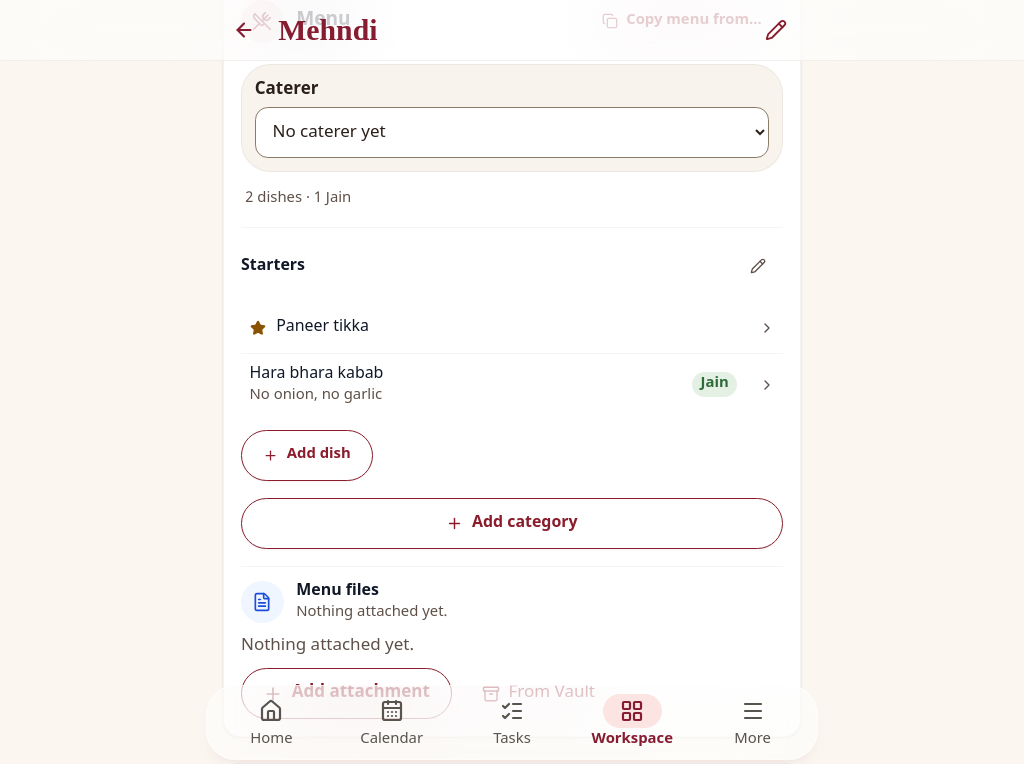
Test: Menu › a dish: attachments and tasks (Add task comes back to the menu); copy a menu with Undo
(page scrolled)
Click the button "Hara bhara kabab No onion, no garlic Jain". click: [316, 374]
box: [241, 354, 783, 415]
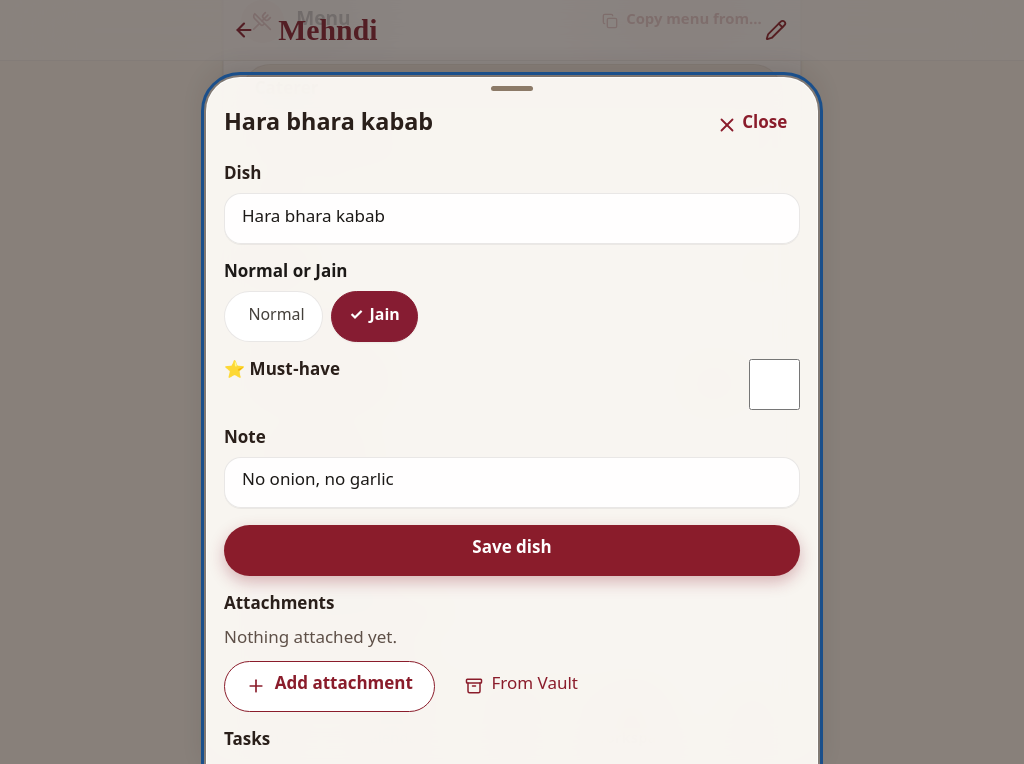
Expected: the field labelled "Dish" holds "Hara bhara kabab", [224, 193, 800, 244]
Click the button "Close". click: [752, 125]
box: [703, 100, 800, 151]
(page scrolled)
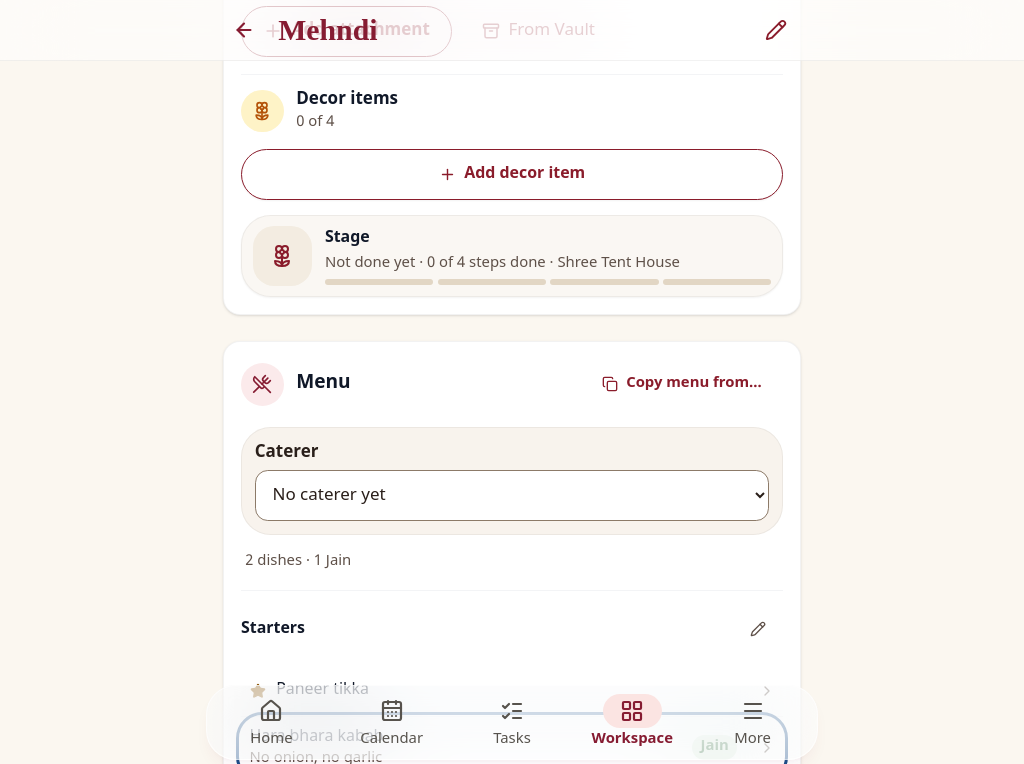
Click the button "Copy menu from…". click: [682, 384]
box: [580, 359, 783, 410]
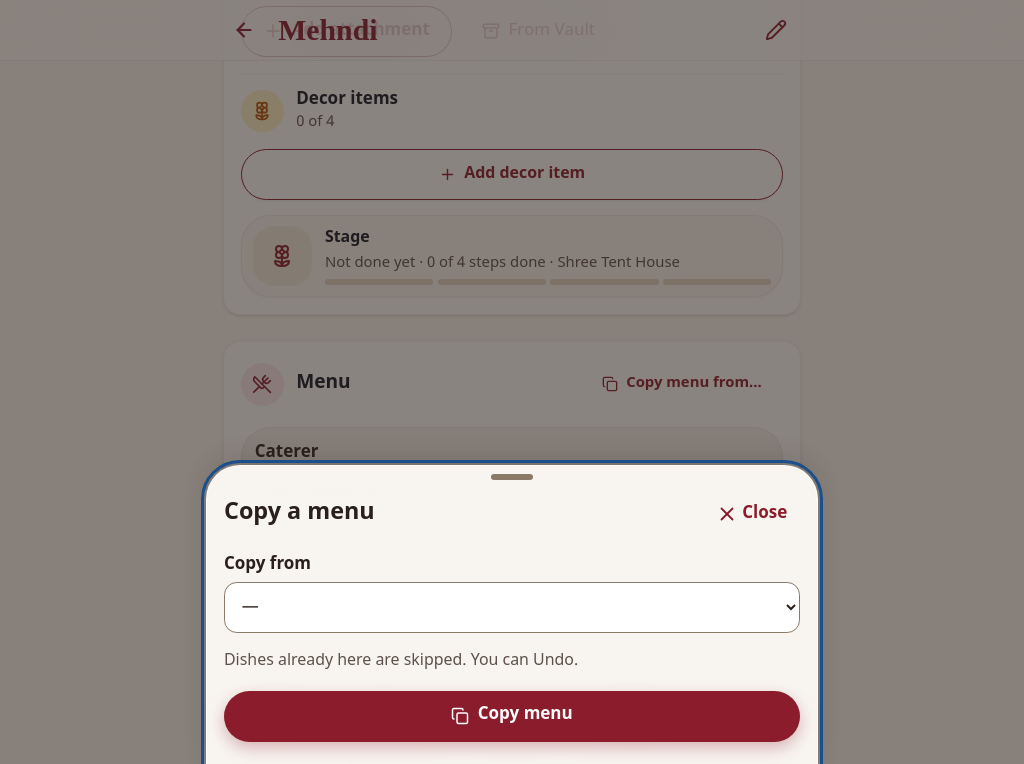
Select "Reception" in the dropdown labelled "Copy from". click: [512, 608]
box: [224, 582, 800, 633]
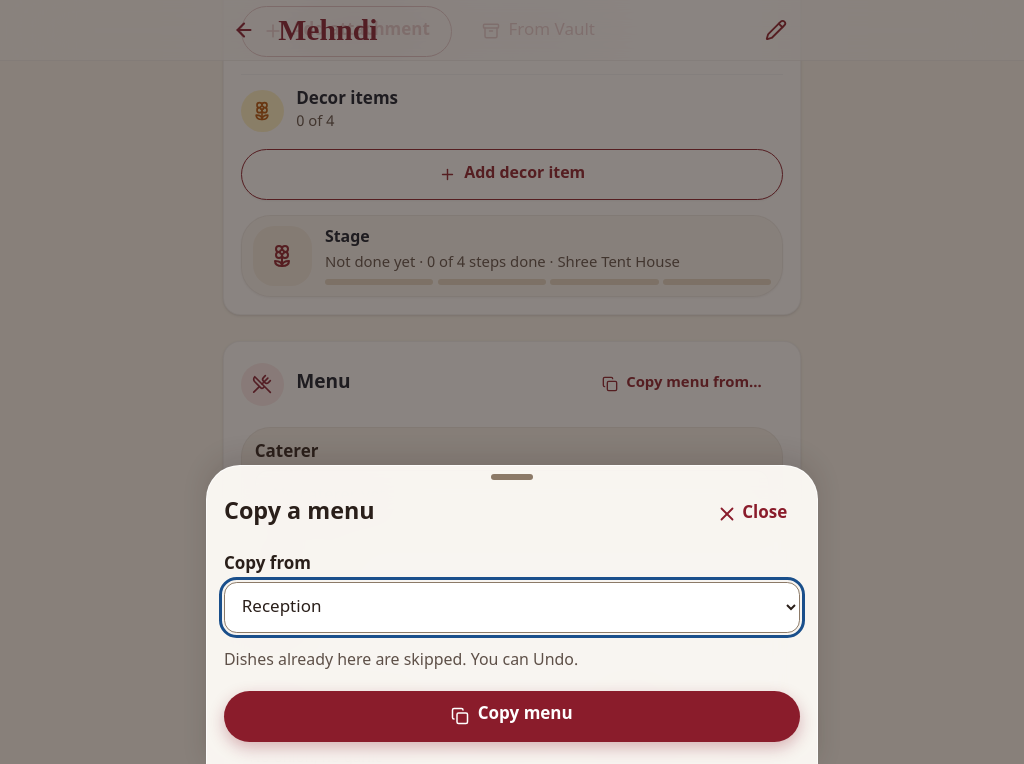
Click the button "Copy menu". click: [512, 716]
box: [224, 690, 800, 742]
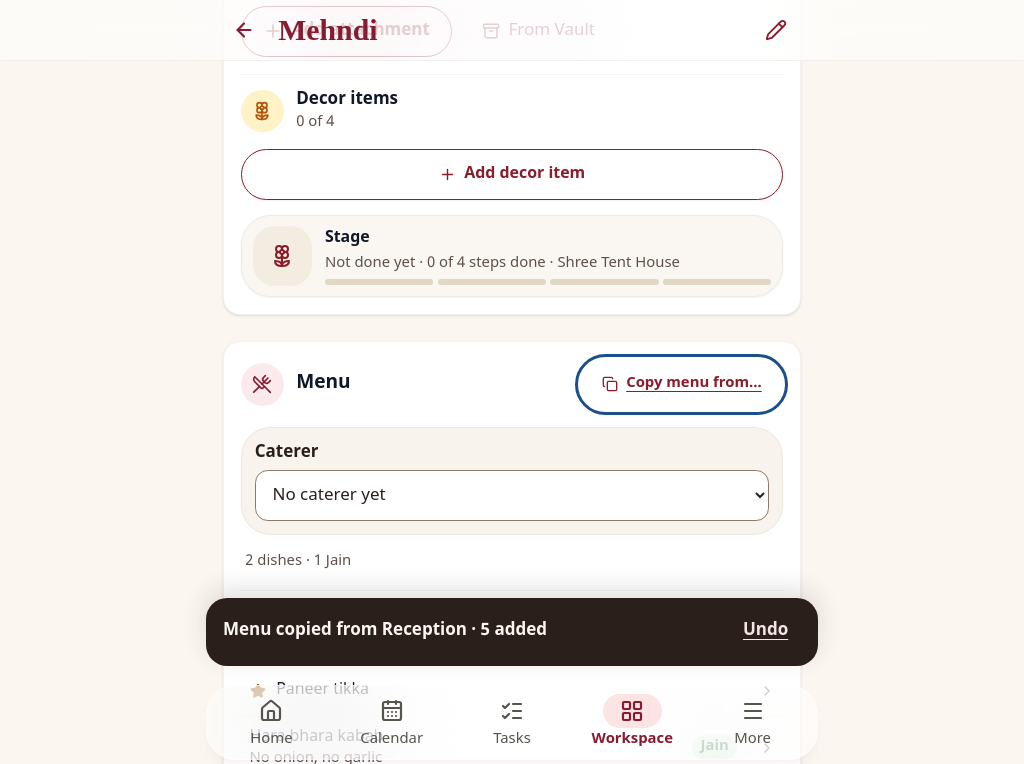
Expected: the text "Menu copied from Reception · 5 added" is shown, [223, 620, 547, 642]
